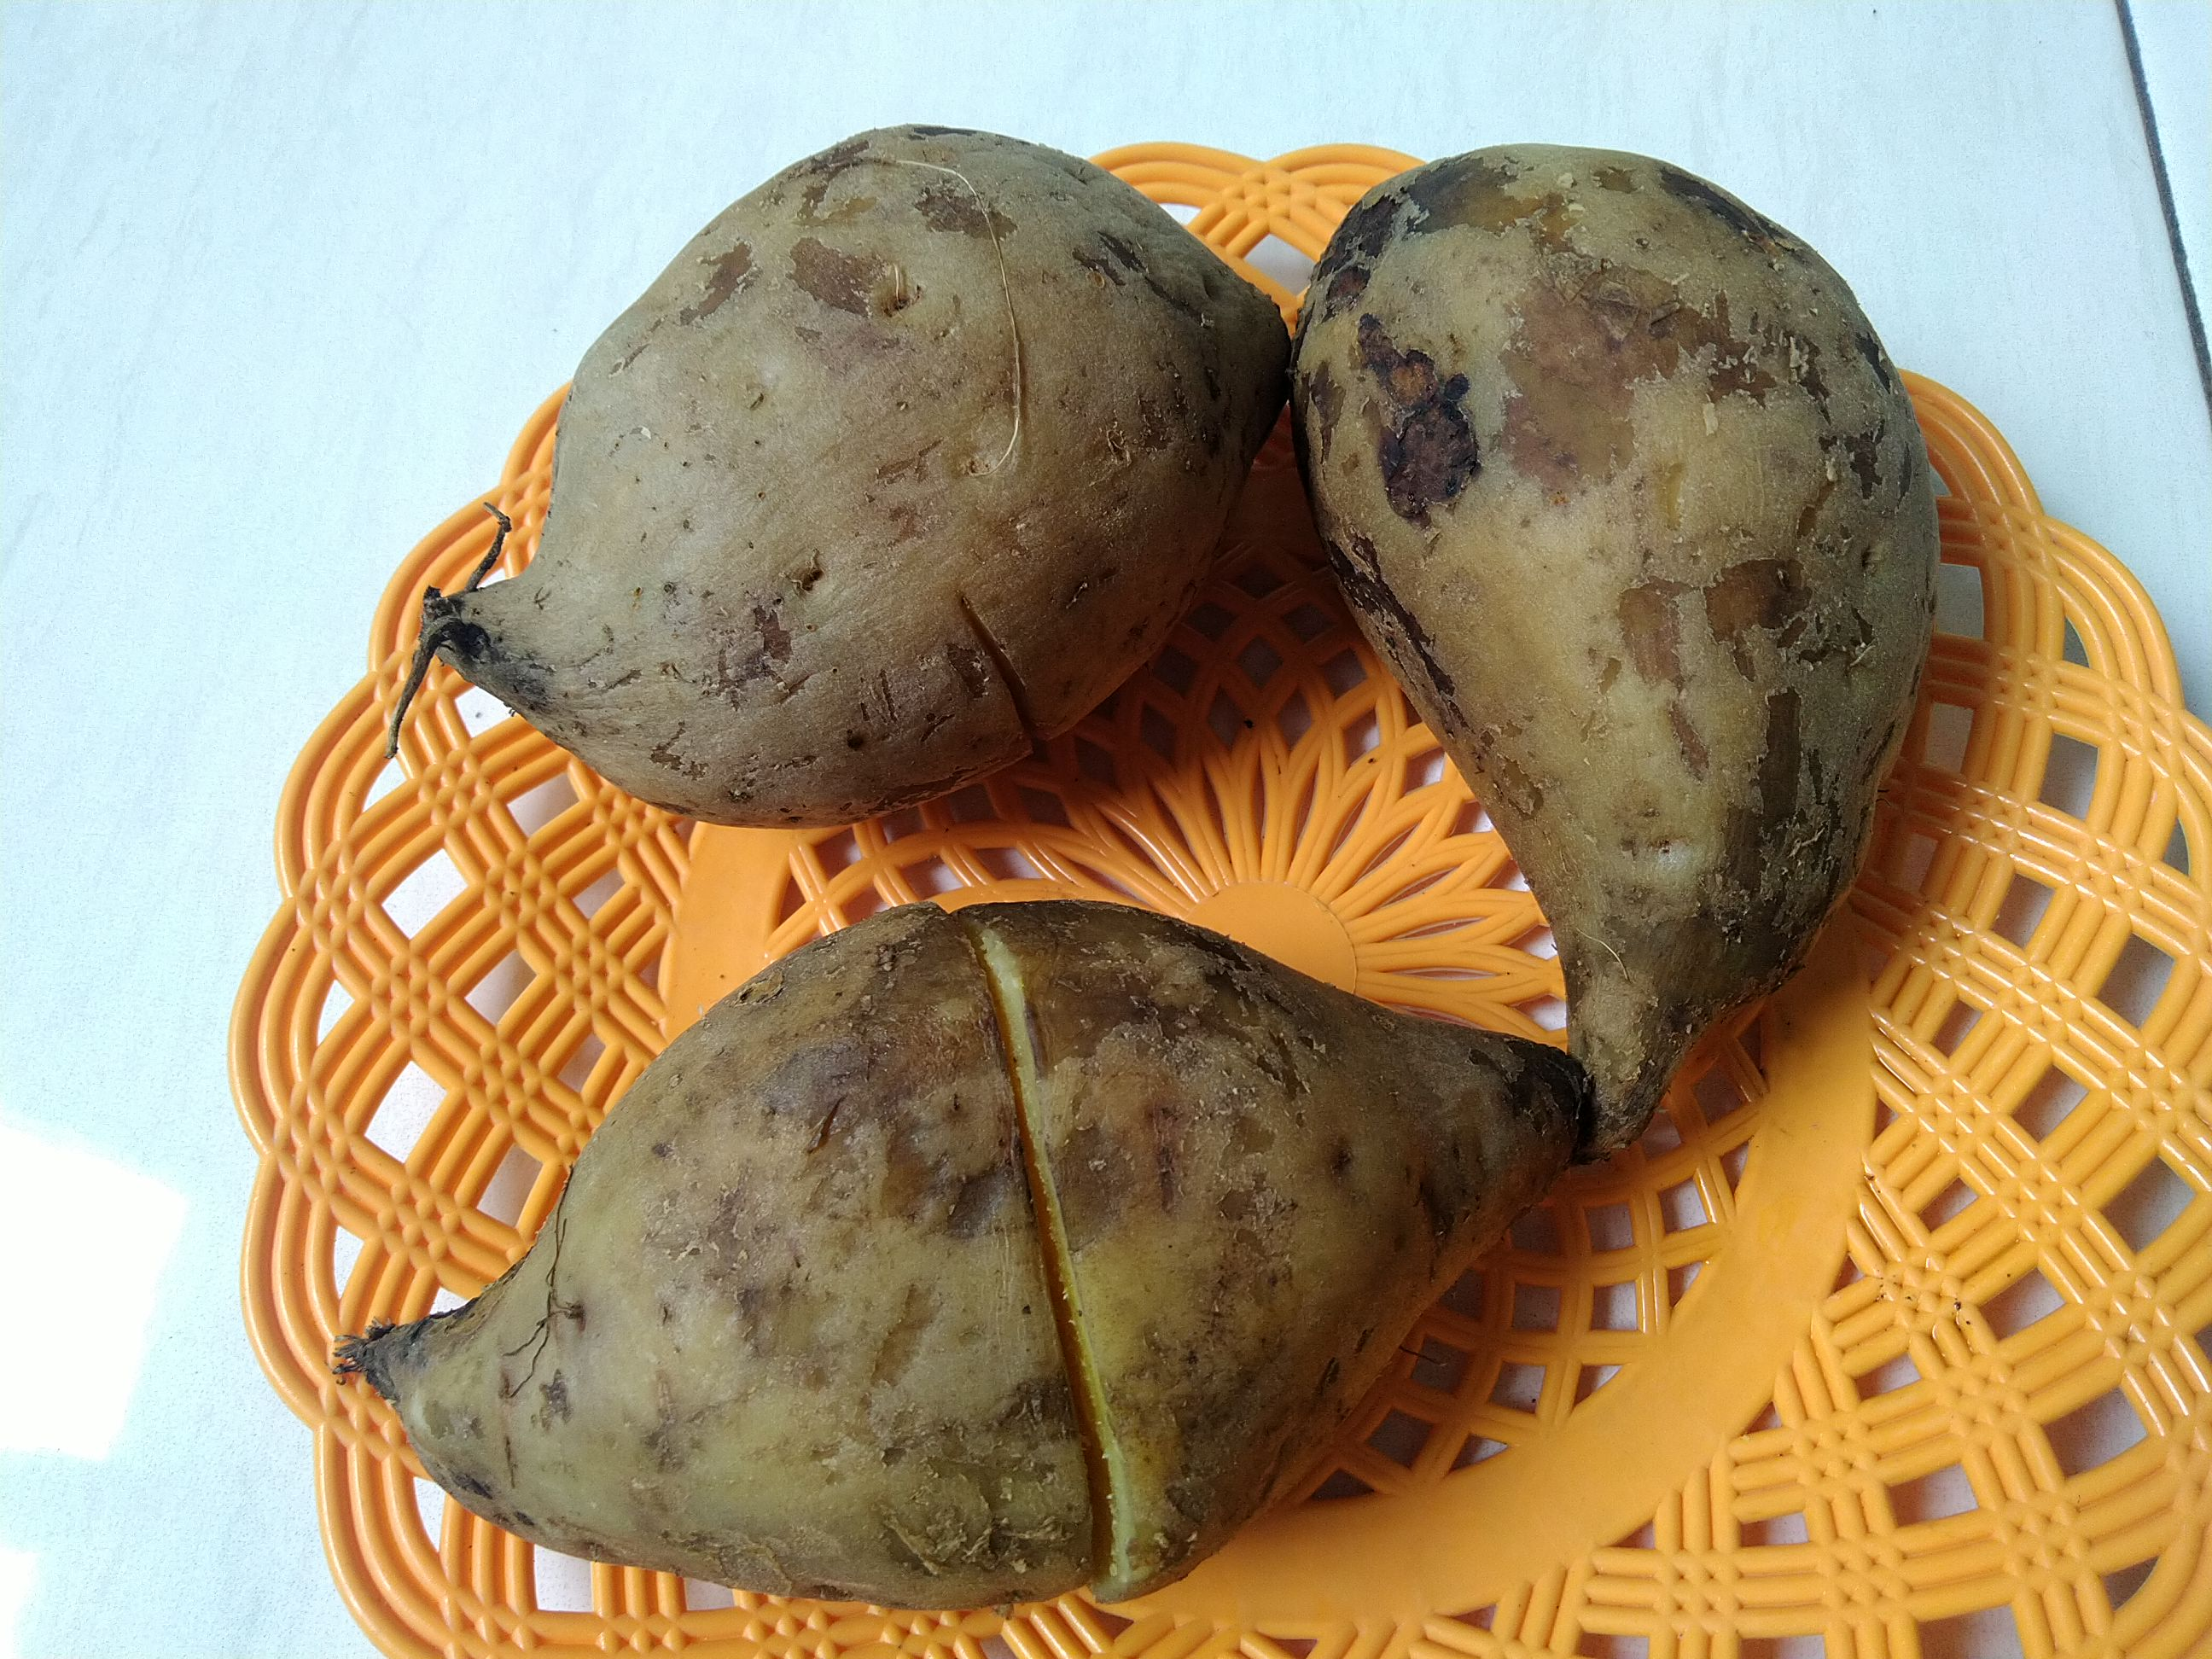ubi kuning: (327, 117, 1951, 1614), (317, 878, 1642, 1617), (1258, 117, 1959, 1164), (421, 108, 1285, 829)
